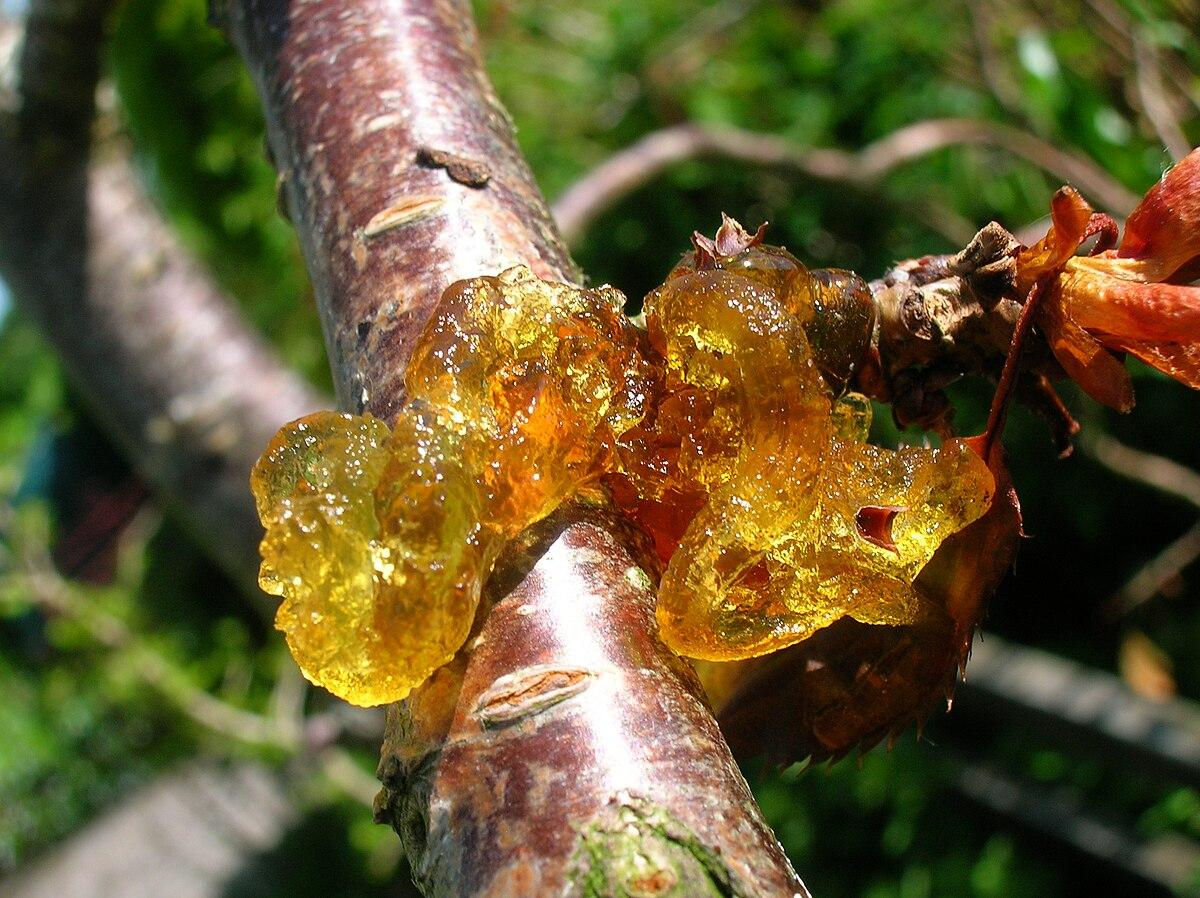gommosis: (251, 267, 648, 705), (614, 263, 993, 659)
